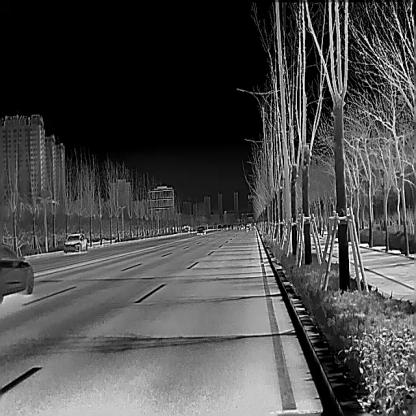car: (0, 244, 34, 300), (63, 232, 87, 253), (196, 225, 204, 234)
